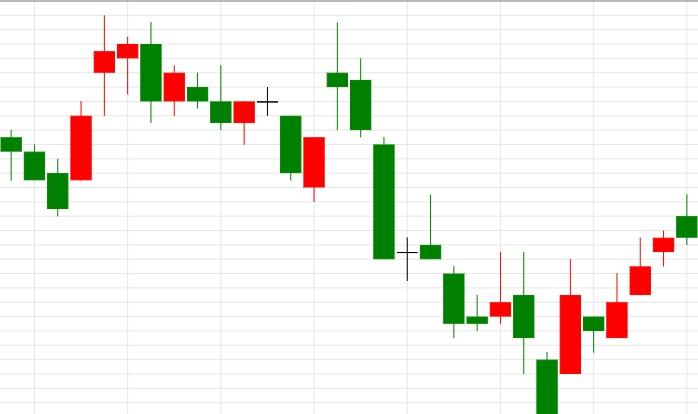bearish_engulfing_fall: (46, 16, 162, 217)
